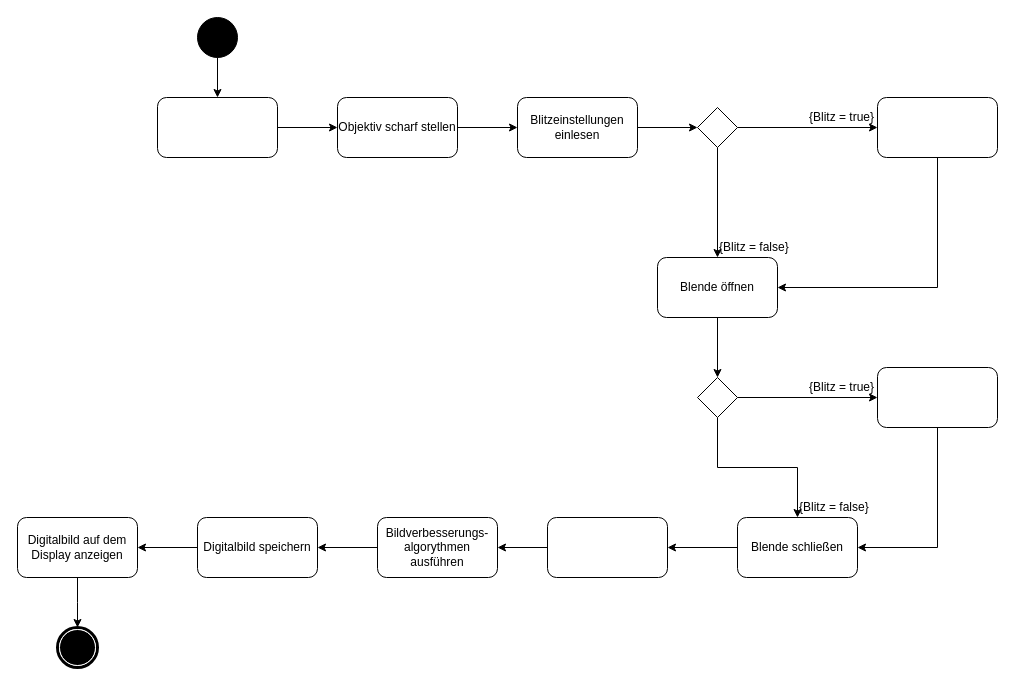
This 1015x685 diagram has some shape labels left out. Here are the shapes that lost their labels. From the top down, the box of each, then its label:
(156, 96, 278, 158): Auslöser drücken
(876, 96, 998, 158): Belichtung messen
(876, 366, 998, 428): Blitz zünden
(546, 516, 668, 578): CCD Chip auslesen
